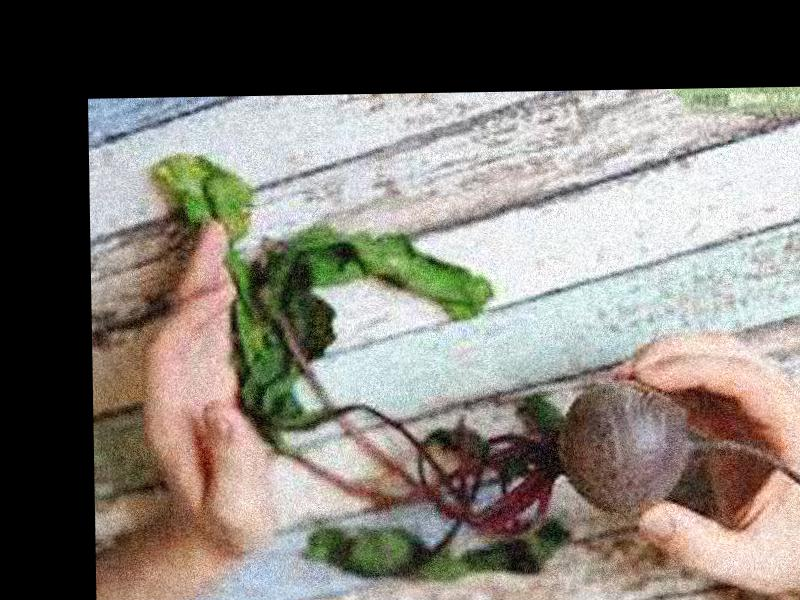Beet: (154, 144, 800, 582)
